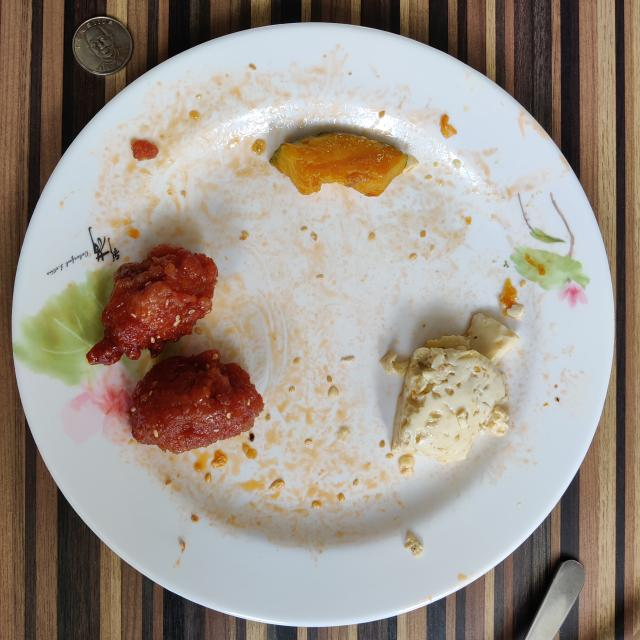coin: (72, 16, 132, 75)
pumpkin: (270, 132, 408, 196)
